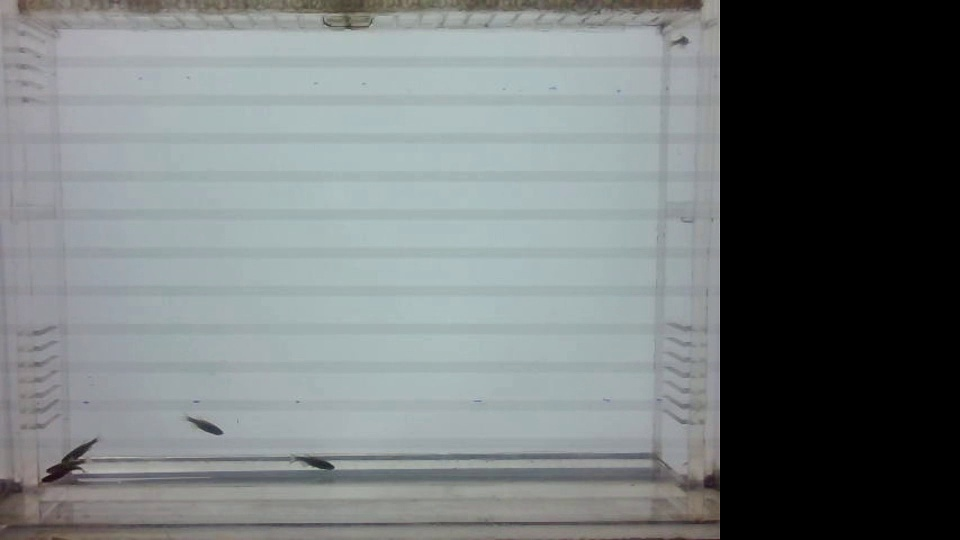fish: (282, 442, 340, 476), (176, 408, 228, 444), (53, 434, 100, 460), (660, 28, 692, 56), (37, 470, 73, 486), (44, 456, 77, 473)
